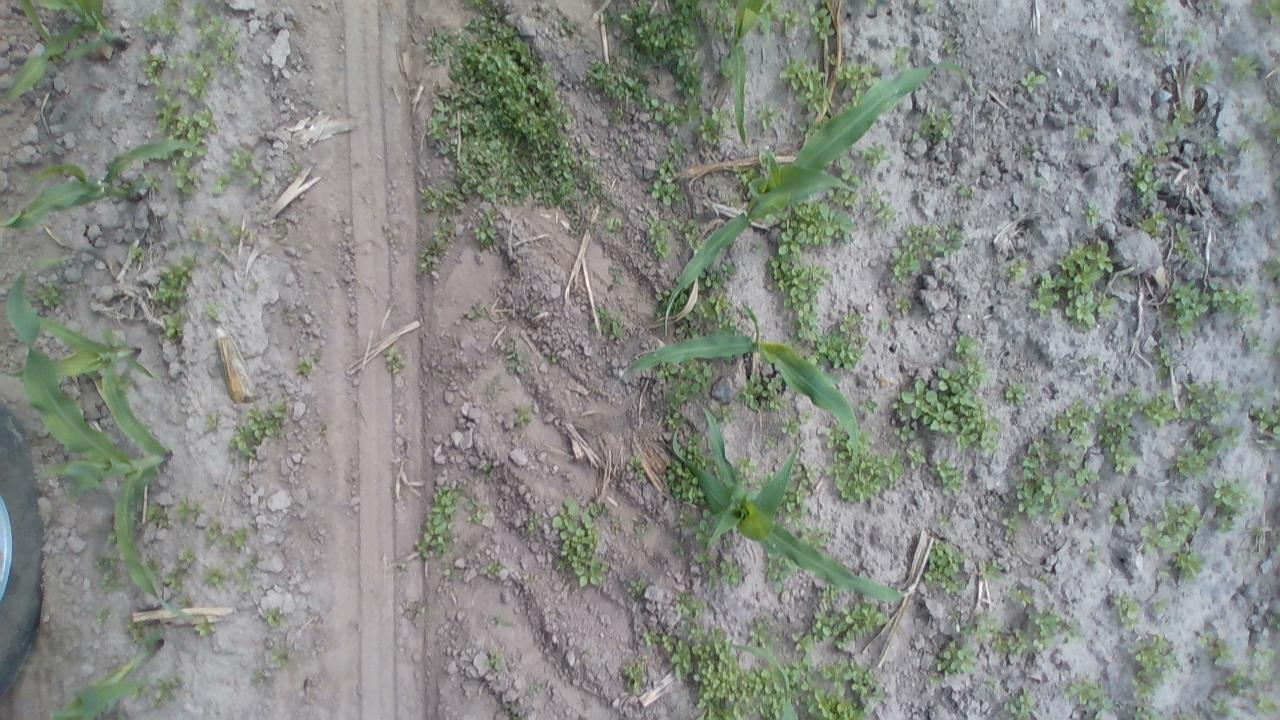Maize: (658, 61, 965, 344), (5, 253, 199, 623), (671, 403, 908, 601), (612, 300, 862, 478), (2, 141, 195, 232), (1, 0, 128, 104), (52, 629, 164, 720), (4, 316, 162, 378), (722, 0, 776, 153), (730, 638, 796, 719)
Weeds: (420, 0, 600, 207), (892, 326, 1004, 454), (657, 628, 791, 718), (607, 0, 705, 101), (1013, 440, 1095, 522), (766, 255, 834, 338), (1057, 240, 1119, 328), (796, 660, 884, 718), (554, 492, 608, 584), (890, 224, 964, 279), (1099, 386, 1144, 474), (1152, 380, 1240, 424), (656, 357, 712, 423), (1172, 426, 1240, 478), (834, 429, 880, 504), (195, 2, 241, 75), (419, 483, 461, 560), (1142, 499, 1202, 551), (232, 404, 288, 458), (811, 602, 884, 642), (1130, 634, 1180, 691), (211, 147, 267, 197), (586, 59, 648, 104), (778, 205, 832, 256), (1128, 0, 1174, 58), (1210, 478, 1258, 532), (1166, 281, 1210, 336), (154, 254, 200, 306), (154, 101, 212, 142), (907, 106, 958, 152), (780, 57, 827, 106), (1062, 677, 1115, 720), (1049, 398, 1096, 446), (926, 538, 966, 594), (170, 48, 214, 98), (1152, 105, 1194, 153), (420, 220, 458, 272), (134, 0, 187, 37), (1212, 282, 1260, 320), (646, 159, 684, 206), (808, 335, 862, 368), (90, 552, 128, 598), (666, 461, 708, 502), (1194, 622, 1233, 666), (1129, 154, 1162, 206), (1245, 99, 1280, 143), (1030, 268, 1062, 316), (590, 304, 625, 345), (1251, 642, 1280, 690), (746, 614, 782, 652), (764, 552, 796, 594), (1172, 222, 1204, 263), (1030, 608, 1061, 650), (820, 204, 854, 242), (643, 98, 689, 126), (990, 629, 1029, 662), (936, 640, 974, 673), (168, 156, 202, 192), (1112, 590, 1142, 630), (927, 458, 962, 492), (782, 488, 813, 526), (824, 426, 848, 474), (34, 280, 67, 314), (474, 206, 500, 249), (1002, 377, 1032, 414), (169, 228, 219, 250), (620, 654, 646, 696), (736, 452, 762, 494), (648, 216, 674, 258), (704, 261, 740, 291), (1174, 550, 1203, 587), (236, 550, 262, 591), (733, 162, 762, 198), (1004, 687, 1036, 719), (160, 310, 192, 342), (144, 502, 172, 538), (652, 288, 688, 316), (1247, 0, 1280, 30), (683, 431, 710, 467), (672, 592, 709, 618), (962, 612, 994, 642), (1004, 580, 1038, 608), (838, 62, 876, 87), (866, 188, 896, 219), (294, 346, 323, 378), (699, 108, 724, 144), (762, 376, 786, 413), (808, 6, 834, 40), (974, 555, 1004, 584), (1250, 405, 1277, 437), (1000, 258, 1030, 286), (161, 564, 191, 592), (383, 342, 407, 376), (736, 376, 760, 410), (797, 522, 826, 549), (698, 294, 728, 320), (693, 504, 712, 544), (626, 455, 652, 484), (153, 676, 178, 706), (461, 298, 488, 325), (90, 525, 118, 551), (1232, 55, 1261, 80), (1140, 209, 1168, 234), (1182, 24, 1210, 49), (1226, 666, 1249, 696), (124, 618, 146, 649), (1201, 134, 1227, 160), (631, 518, 658, 543), (836, 310, 864, 334), (838, 158, 862, 186), (1154, 342, 1172, 379), (860, 142, 890, 164), (1021, 70, 1047, 95), (1079, 200, 1101, 229), (605, 262, 627, 291), (202, 565, 226, 591), (791, 632, 815, 658), (1254, 693, 1277, 720), (881, 452, 903, 480), (256, 604, 284, 626), (1208, 691, 1232, 716), (779, 8, 803, 33), (177, 496, 200, 522), (674, 312, 700, 335), (719, 561, 745, 584), (1062, 617, 1086, 641), (672, 215, 704, 233), (891, 291, 914, 316), (142, 56, 168, 78), (224, 219, 250, 240), (1234, 135, 1260, 156), (486, 646, 502, 680), (1000, 515, 1020, 542), (1262, 248, 1280, 278), (142, 171, 164, 195), (202, 520, 224, 544), (956, 178, 976, 204), (249, 661, 268, 688), (466, 500, 489, 522), (613, 134, 631, 162), (904, 443, 924, 468), (838, 92, 864, 111), (1194, 63, 1216, 85), (606, 105, 626, 129), (1070, 121, 1095, 140), (1232, 200, 1253, 222), (127, 244, 148, 266), (228, 528, 248, 551), (202, 301, 222, 324), (892, 46, 911, 70), (716, 408, 738, 428), (150, 78, 170, 100), (752, 106, 774, 126), (483, 554, 502, 577), (506, 351, 525, 374), (1132, 704, 1159, 720), (794, 466, 815, 486), (1109, 500, 1128, 522), (856, 397, 879, 415), (599, 194, 616, 218), (284, 161, 304, 181), (270, 644, 288, 666), (686, 228, 704, 250), (716, 318, 744, 332), (917, 0, 940, 17), (1152, 597, 1172, 616), (1243, 331, 1263, 350), (830, 188, 857, 202), (938, 36, 955, 58), (704, 568, 720, 591), (675, 510, 693, 530), (514, 403, 532, 423), (502, 699, 519, 720), (282, 304, 298, 326), (1083, 543, 1098, 566), (641, 629, 660, 647), (780, 417, 799, 435), (628, 578, 646, 597), (877, 314, 894, 334), (691, 551, 712, 567), (1094, 372, 1110, 393), (1082, 354, 1106, 368), (178, 546, 196, 564), (1100, 77, 1119, 94), (1156, 562, 1170, 584), (1029, 176, 1047, 193), (724, 192, 742, 209), (936, 512, 952, 531), (195, 620, 214, 636), (604, 220, 624, 235), (758, 471, 776, 487), (668, 138, 684, 156), (235, 468, 254, 483), (96, 605, 110, 625), (1021, 144, 1037, 161), (412, 598, 429, 614), (1116, 131, 1134, 146), (764, 436, 778, 455), (205, 411, 219, 430), (438, 560, 453, 577), (548, 348, 562, 366), (526, 516, 541, 532), (179, 592, 196, 606), (1255, 151, 1272, 165), (982, 676, 998, 690), (529, 678, 544, 692), (1120, 274, 1134, 289), (1247, 526, 1264, 538), (146, 556, 158, 573), (1170, 710, 1190, 720), (1267, 291, 1280, 305), (929, 670, 940, 686), (1040, 572, 1050, 588), (250, 280, 260, 295), (488, 614, 503, 624), (748, 243, 764, 252), (1270, 342, 1280, 356), (388, 233, 399, 245), (482, 462, 494, 472), (1210, 0, 1222, 9), (862, 0, 876, 6)
